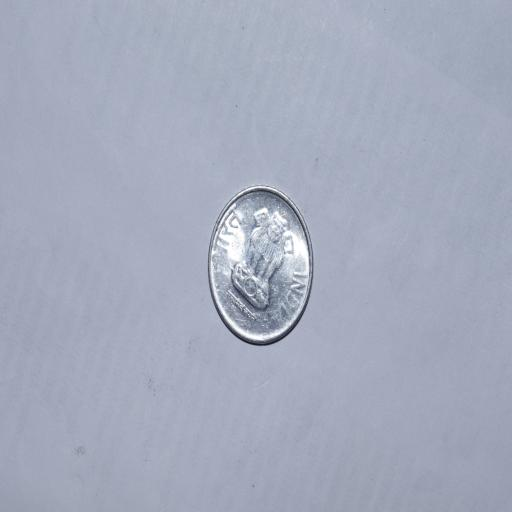rupee2: (203, 183, 316, 348)
